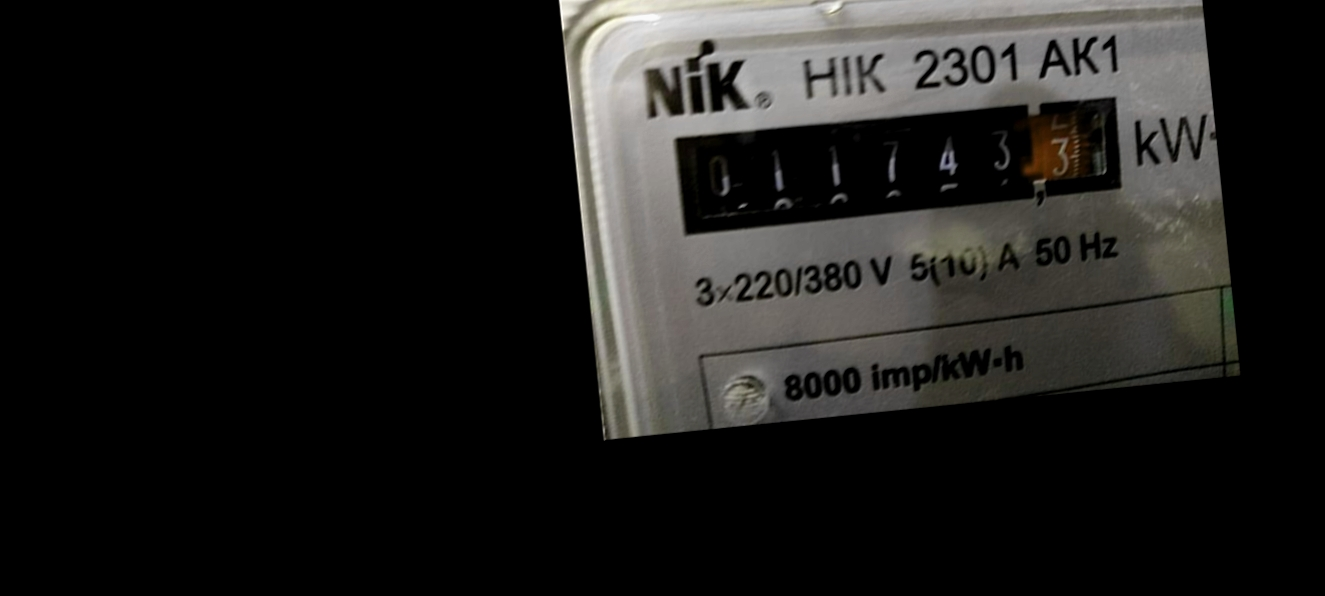0: (703, 150, 737, 200)
1: (823, 140, 849, 190), (768, 146, 790, 195)
3: (986, 124, 1019, 174), (1047, 133, 1076, 179)
4: (932, 129, 965, 179)
7: (879, 136, 907, 186)
screen: (659, 82, 1134, 247)
